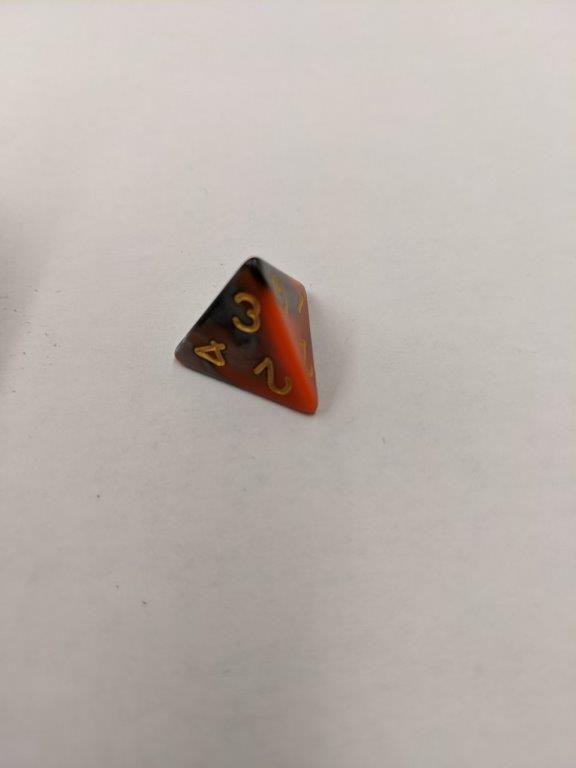d4-3: (172, 252, 322, 422)
